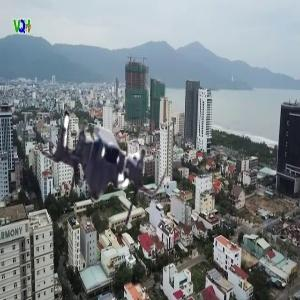drone: (31, 91, 174, 234)
